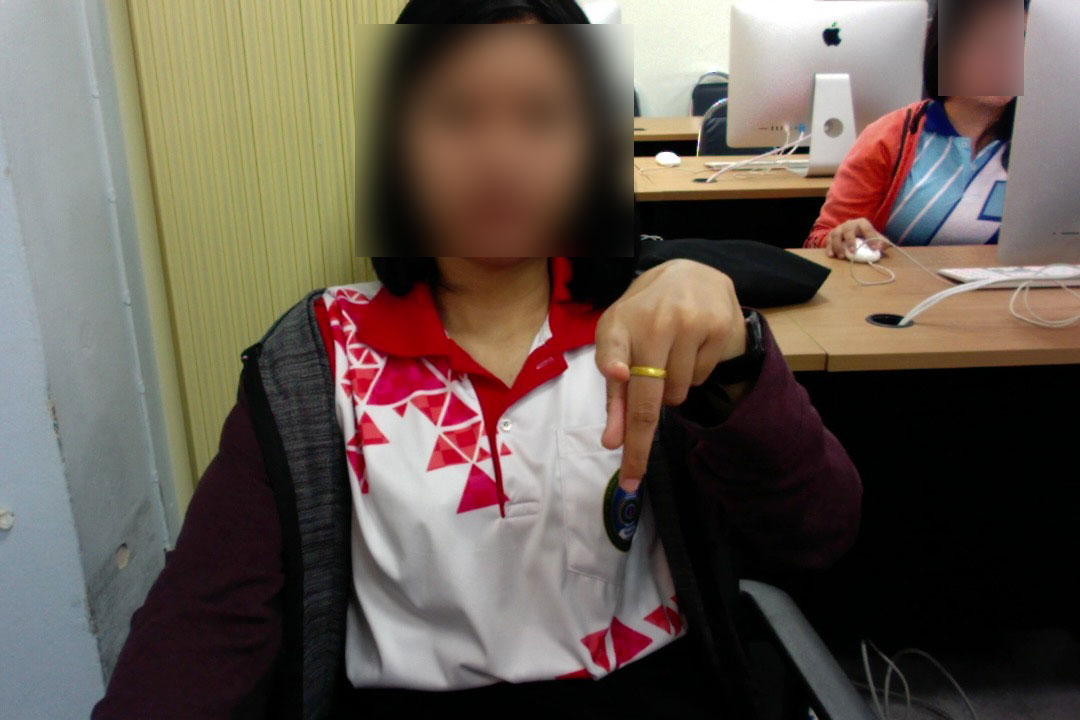por: (586, 247, 751, 501)
